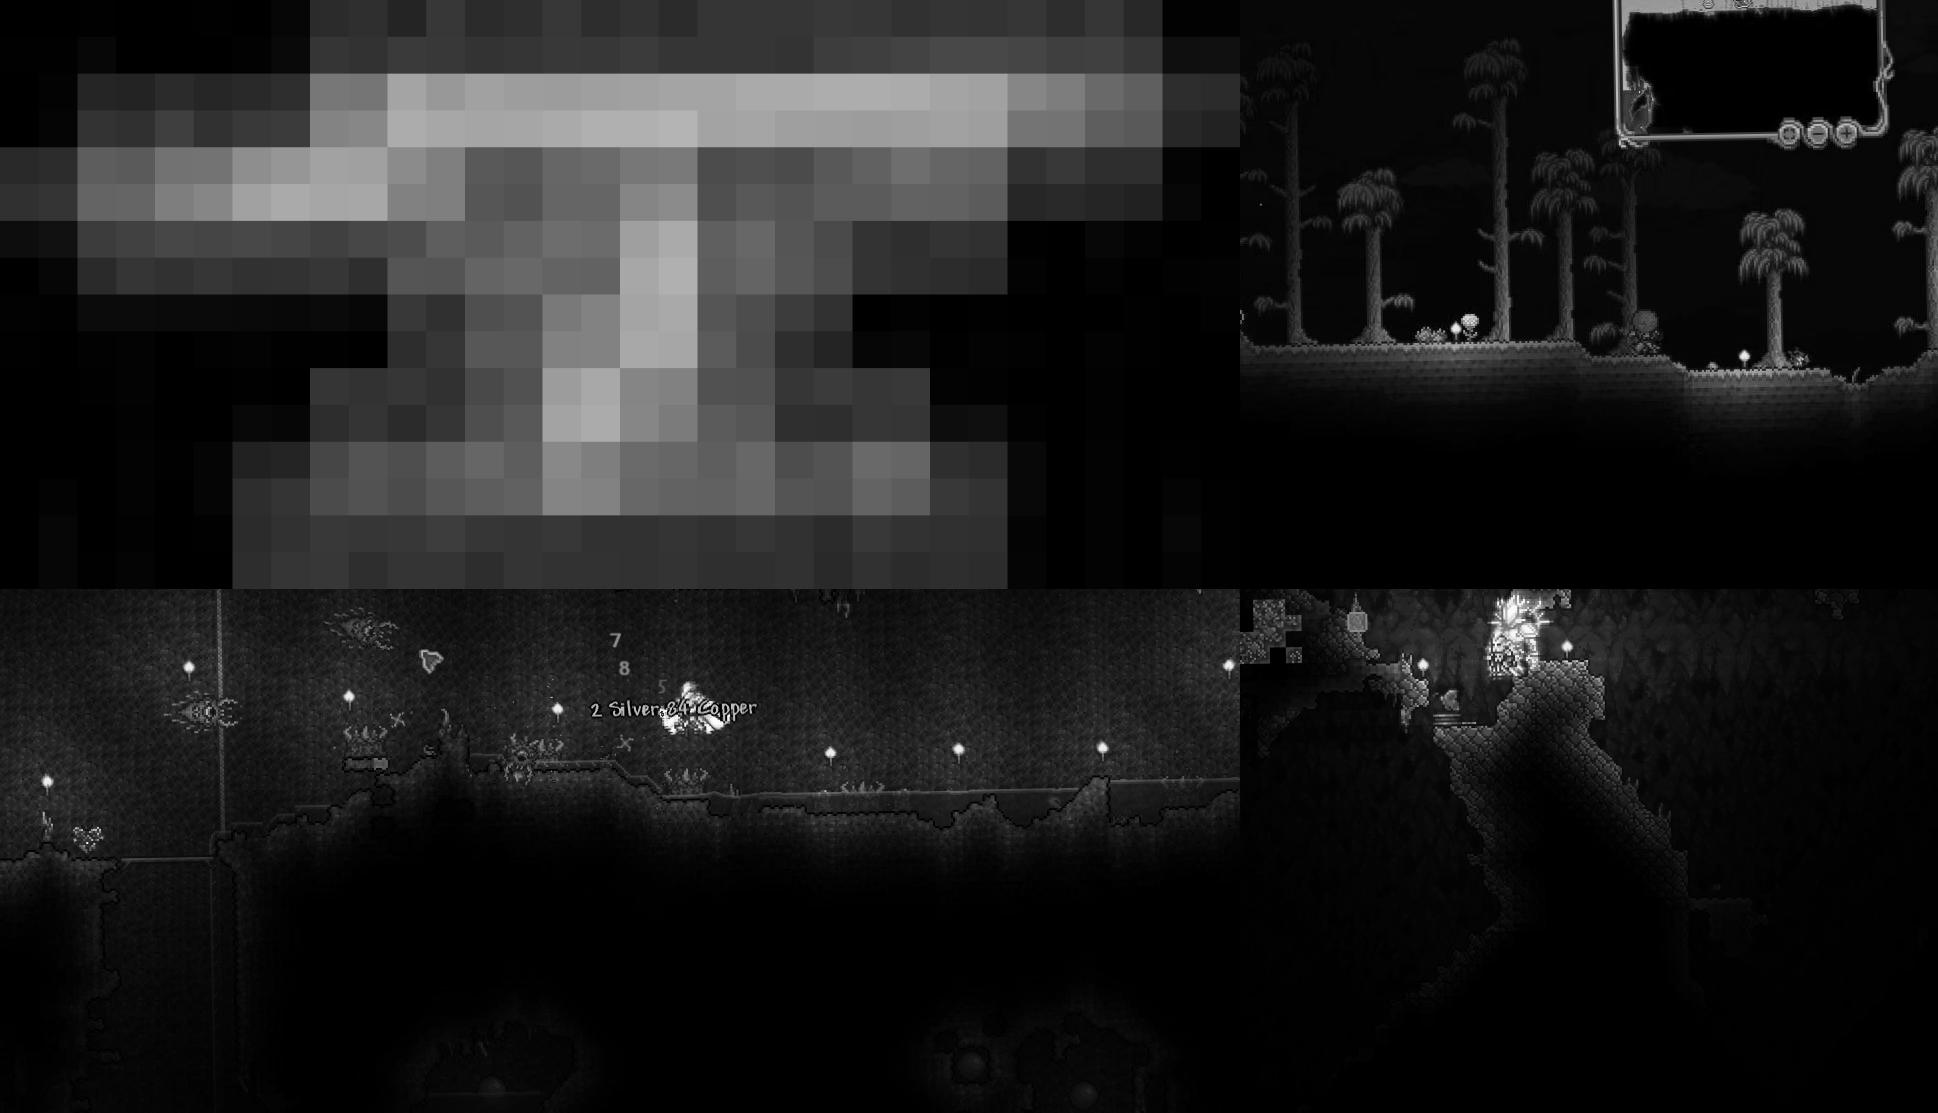anvil: (0, 0, 1241, 588)
crimera: (318, 603, 409, 659)
torchT: (1730, 339, 1761, 383)
